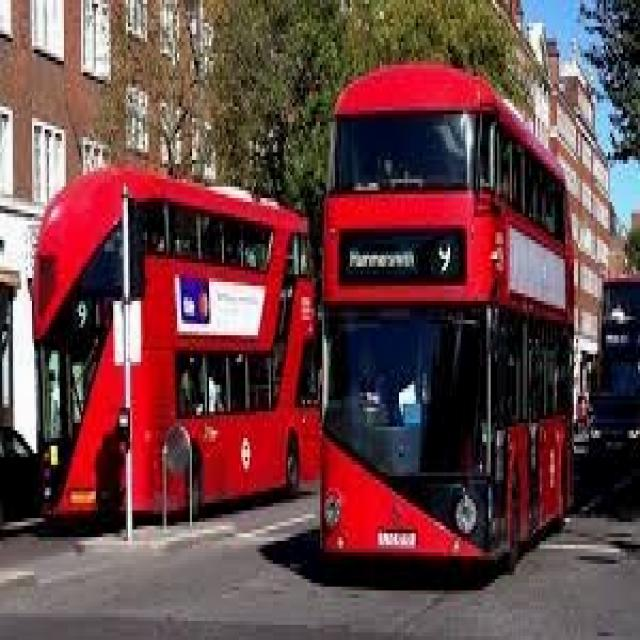bus: (308, 36, 586, 590), (40, 135, 330, 573)
